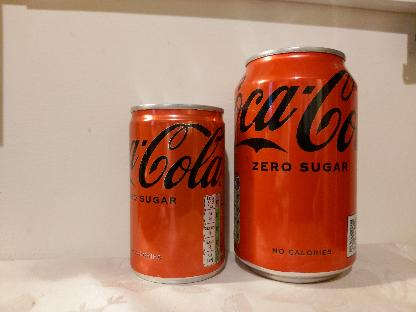Can: (233, 46, 359, 286), (128, 103, 226, 282)
